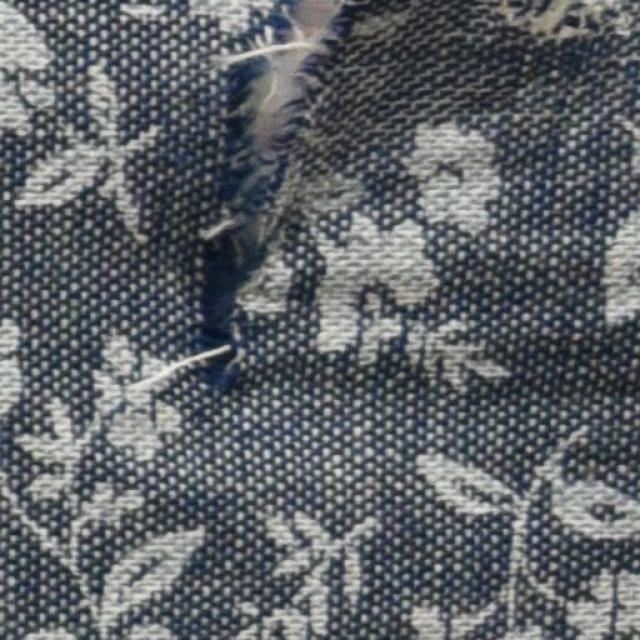Hole: (247, 0, 344, 141)
Snag: (189, 5, 285, 378)
